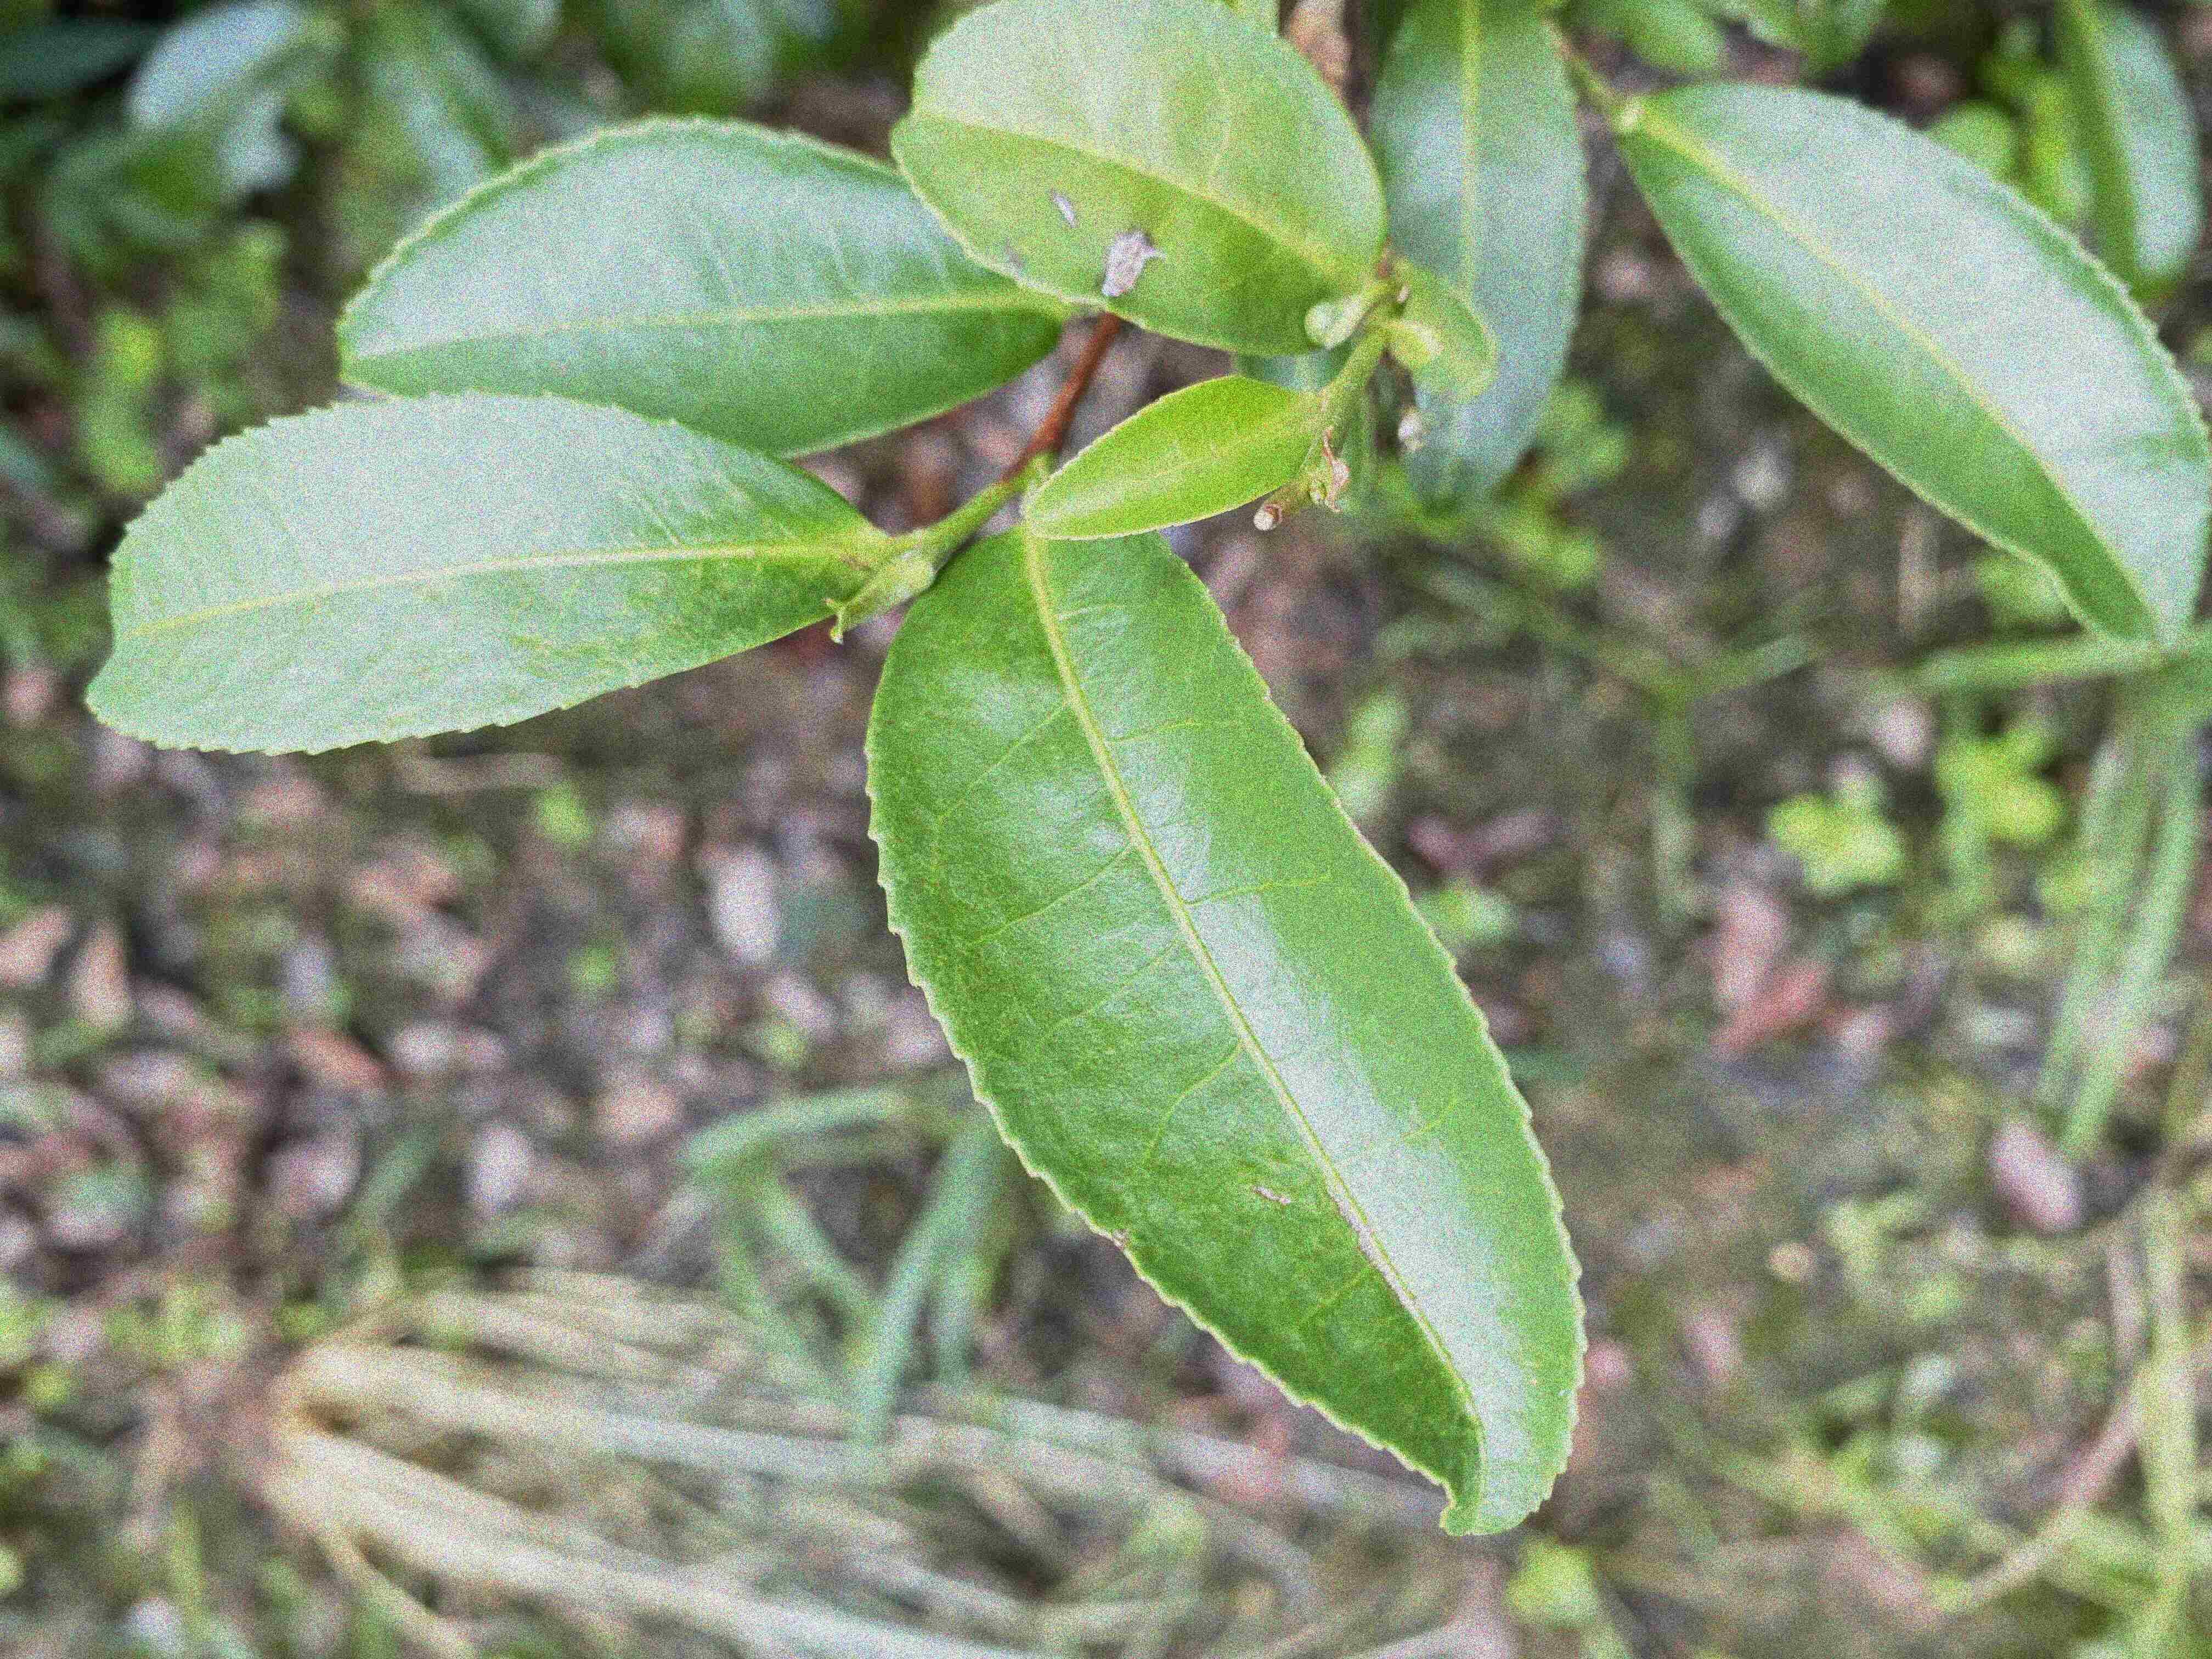healthy: (859, 528, 1587, 1539), (1622, 82, 2212, 652), (78, 385, 869, 760), (334, 119, 1052, 457), (1024, 373, 1318, 540)
tanju_low: (899, 7, 1385, 357)
